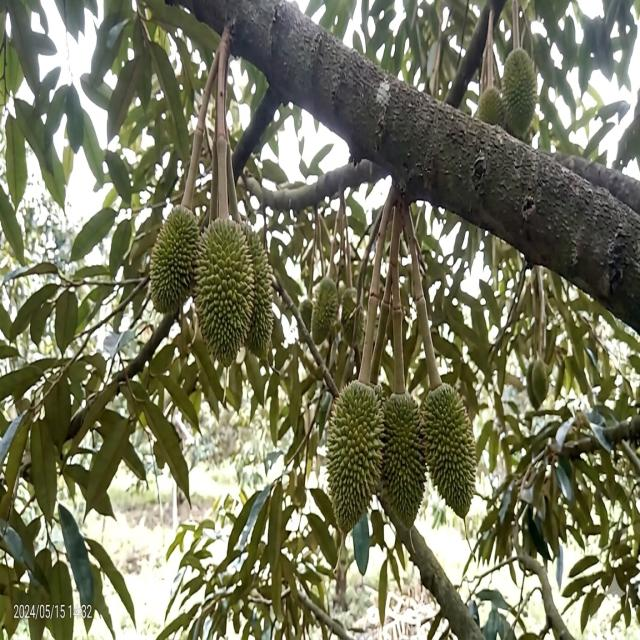immature: (192, 215, 257, 365), (326, 377, 386, 533), (420, 379, 477, 518), (379, 389, 427, 526), (148, 206, 200, 316), (501, 46, 538, 139), (312, 276, 339, 343), (340, 285, 364, 349), (476, 85, 506, 126), (526, 358, 550, 409), (298, 296, 314, 334), (370, 381, 387, 406)
